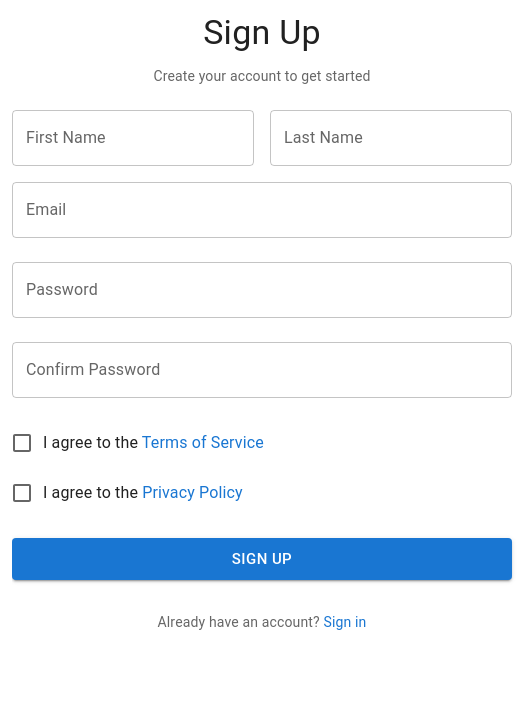
Test case: RegisterForm - Validation - Required Fields › should show error when first name is empty
The width and height of the screenshot is (530, 724).
Step 1. Click the button "Sign Up" → (262, 559), box [12,538,512,580]
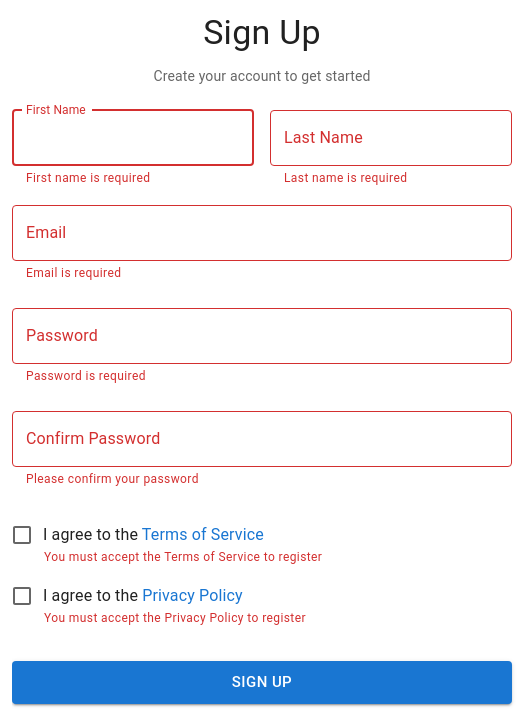
Expected: the text "First name is required" is shown, [26,171,150,185]
